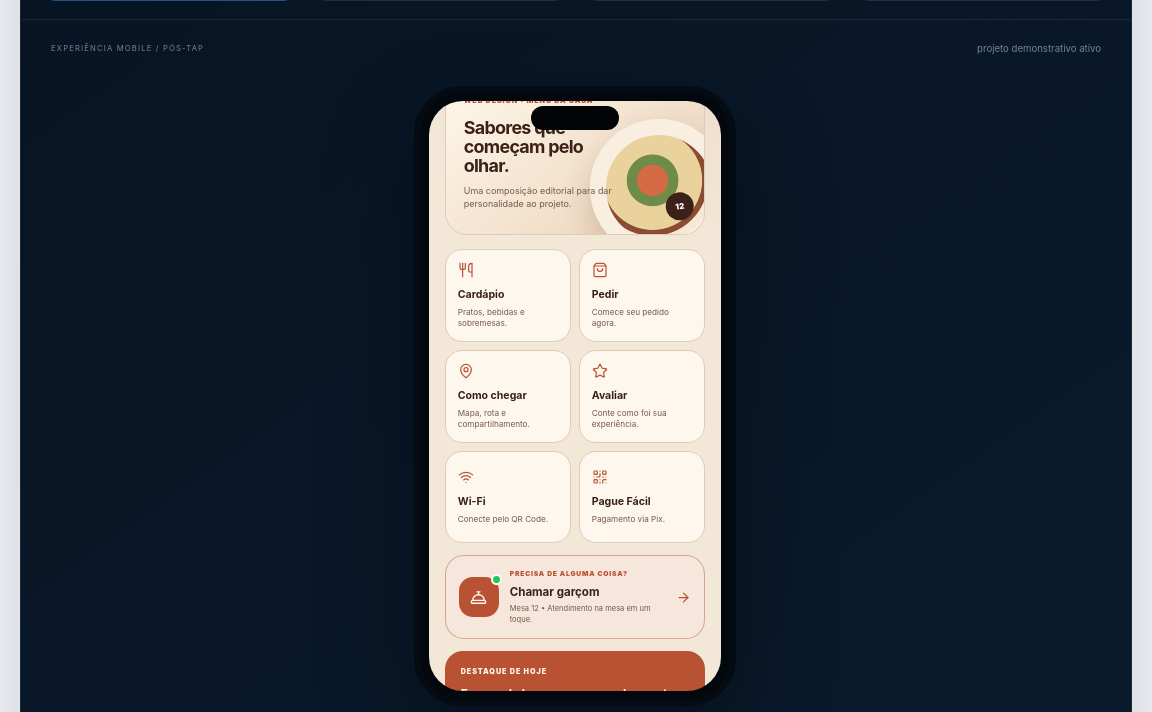
Test case: ProjectShowcase › permite avaliar sem recarregar e mostra o estado de sucesso
(page scrolled)
Click the button "Avaliar Conte como foi sua experiência." at (642, 397), box [579, 350, 705, 443]
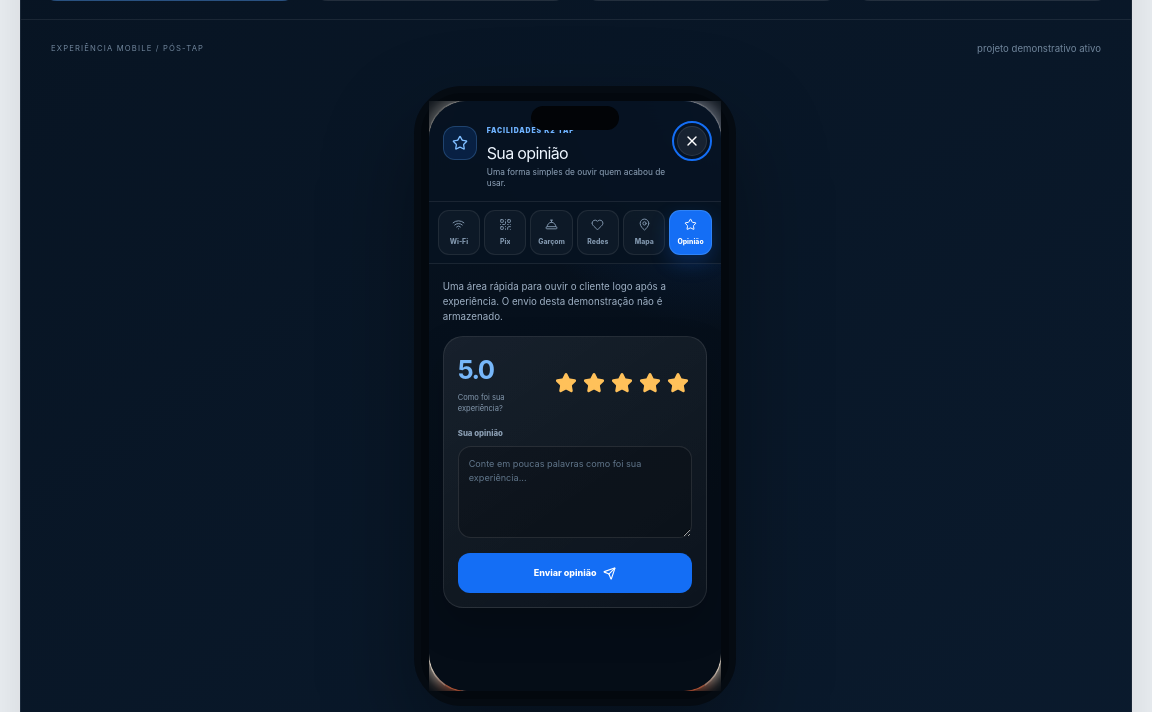
Click the radio button named "5 estrelas" at (678, 383), box [664, 367, 692, 399]
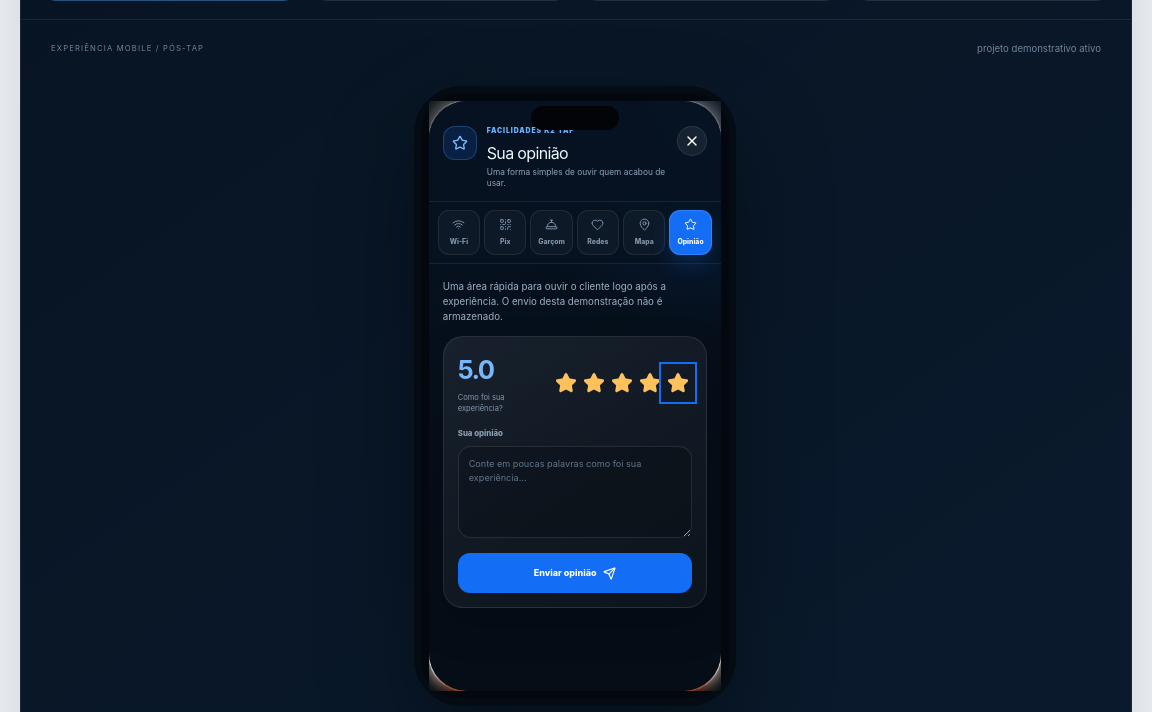
Type "Experiência excelente." into the text box with placeholder "Conte em poucas palavras como foi sua experiência..." at (575, 492), box [458, 446, 692, 538]
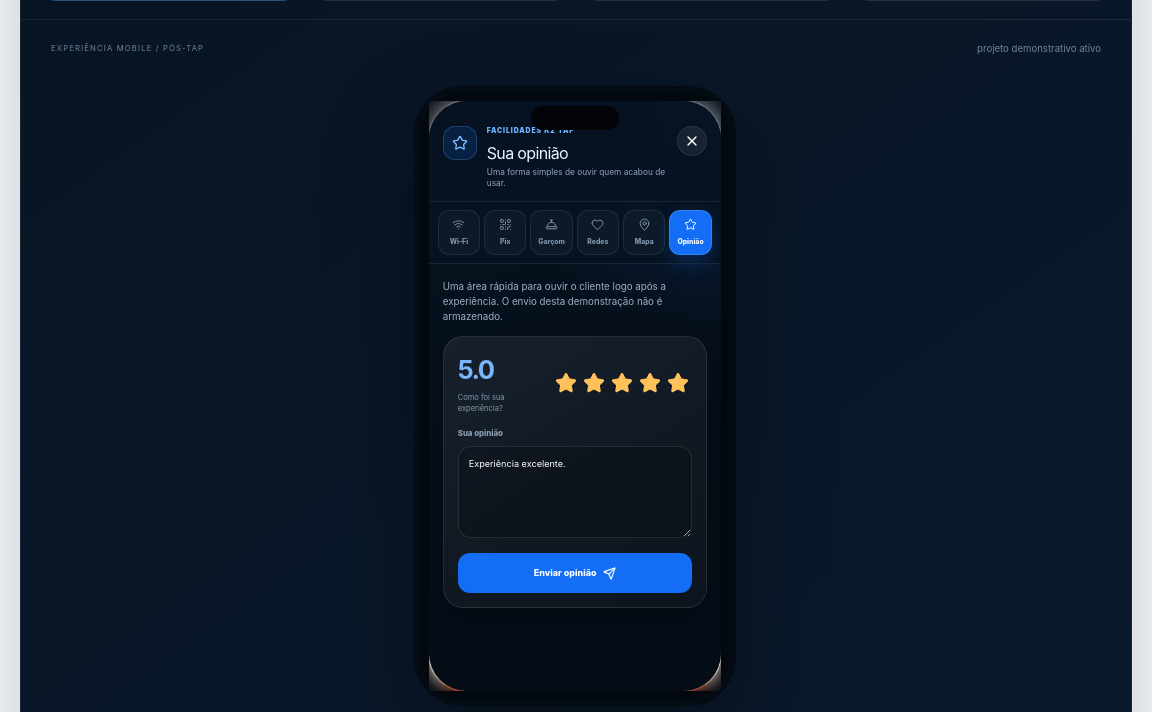
Click the button "Enviar opinião" at (575, 573), box [458, 553, 692, 593]
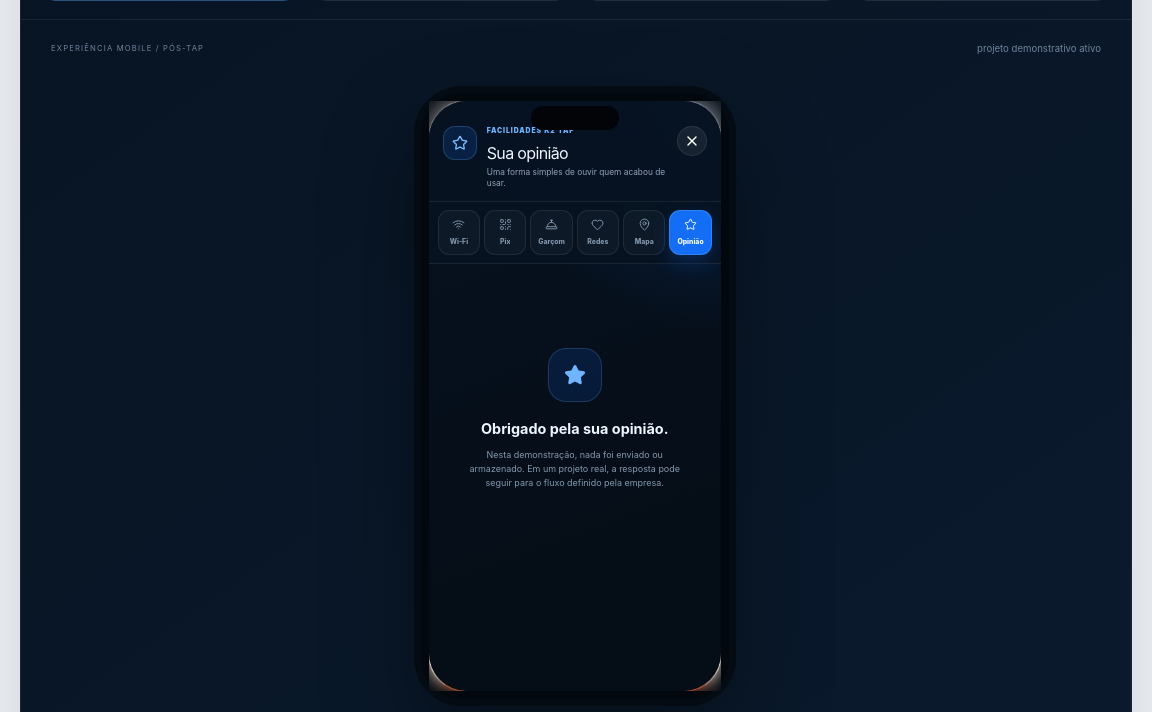
Result: the text "Obrigado pela sua opinião." is shown at [481, 418, 668, 440]
